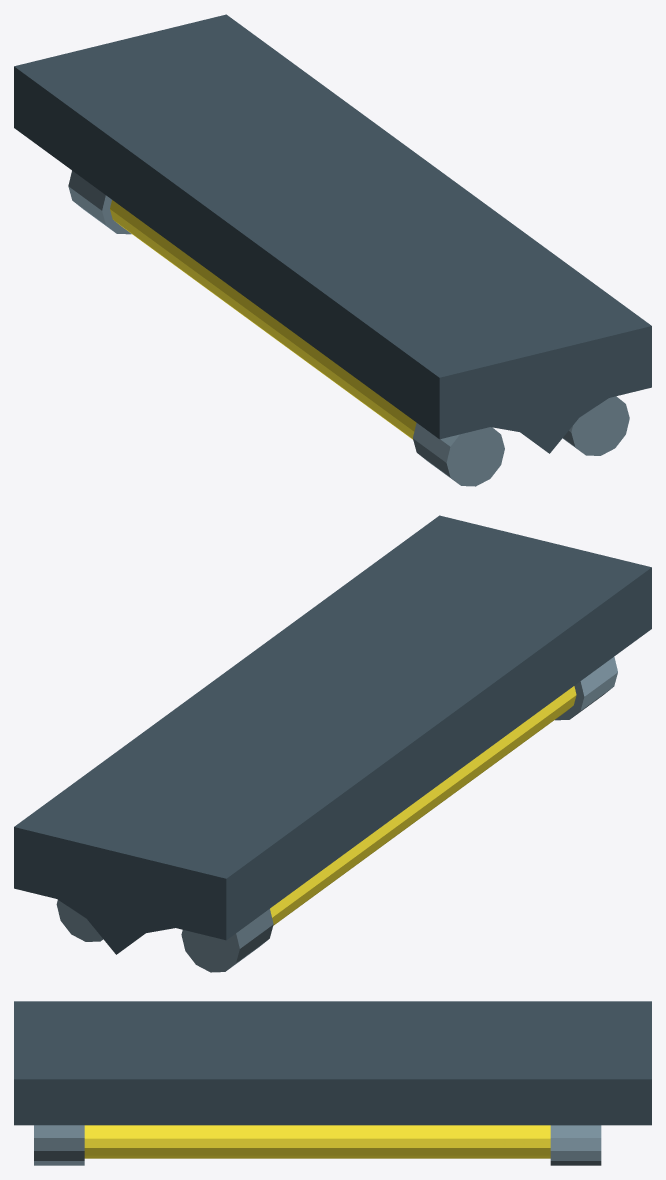
Rendered from led_light.glb.
3 views of the same model, one above another, from view 1: azimuth 30°, elevation 25°; view 2: azimuth 150°, elevation 25°; view 3: azimuth 270°, elevation 25° (orthographic). The views are drawn at different scales.
Visible parts, largest first — view 1: group1408709366, light1, light2; view 2: group1408709366, light1, light2; view 3: group1408709366, light2.
Boxes of the visible parts, x1=… form: group1408709366: x1=14, y1=14, x2=651, y2=453; light1: x1=68, y1=170, x2=504, y2=486; light2: x1=562, y1=396, x2=629, y2=455; group1408709366: x1=14, y1=515, x2=651, y2=954; light1: x1=181, y1=657, x2=617, y2=972; light2: x1=56, y1=900, x2=103, y2=941; group1408709366: x1=14, y1=1001, x2=651, y2=1125; light2: x1=34, y1=1125, x2=601, y2=1165.
Bounding box in the file's own units: 0.5448 × 0.3202 × 1.89.
